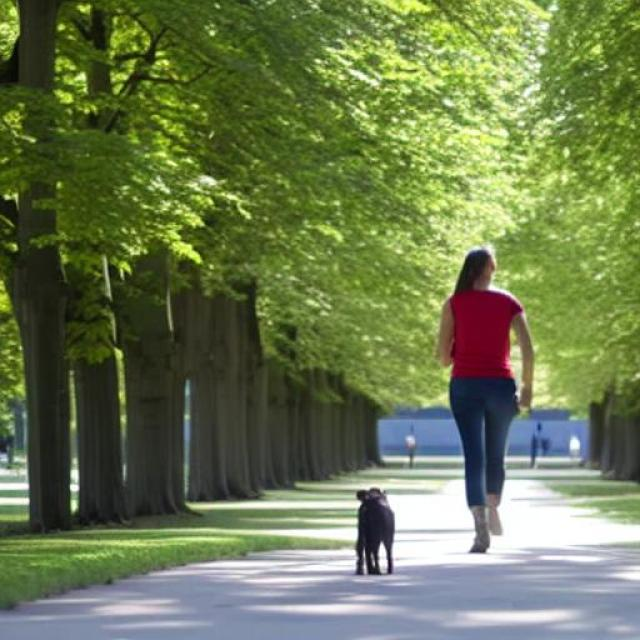Unleashed_Dog: (353, 378, 517, 574)
